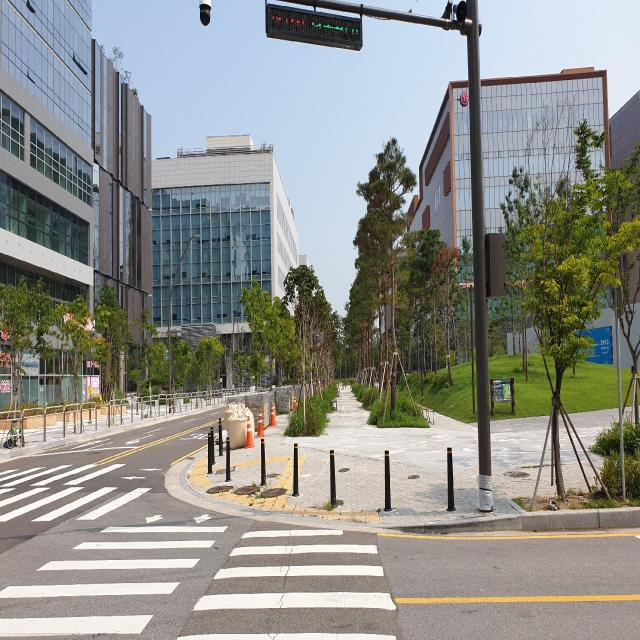횡단보도: (0, 509, 398, 640), (0, 443, 164, 531)
